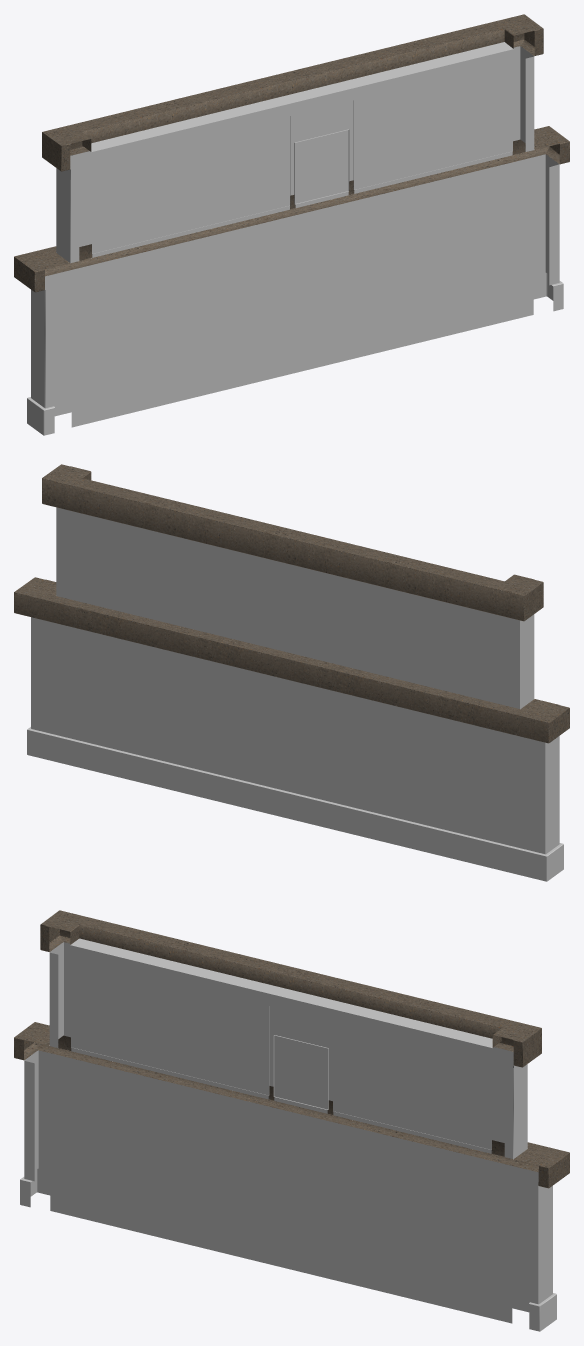
File: FireStationCloseWall.fbx
The picture shows the model from 3 angles, top to bottom: view 1: azimuth 30°, elevation 25°; view 2: azimuth 150°, elevation 25°; view 3: azimuth 330°, elevation 25°; orthographic projection.
Parts seen in each view (by area): view 1: FireStationCloseWall; view 2: FireStationCloseWall; view 3: FireStationCloseWall.
Boxes of the visible parts, x1,y1,x2,y2 form: FireStationCloseWall: (14,14,569,435); FireStationCloseWall: (14,464,569,881); FireStationCloseWall: (14,910,569,1331).
Bounding box in the file's own units: 21.7 × 11 × 1.58.
